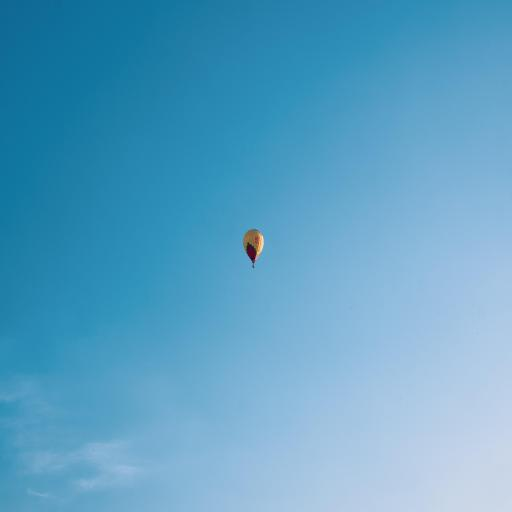hot air ballon: (243, 223, 267, 272)
